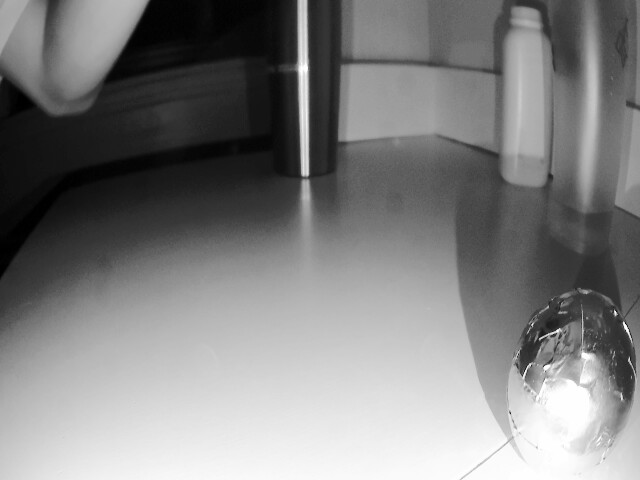silver: (509, 295, 637, 470)
